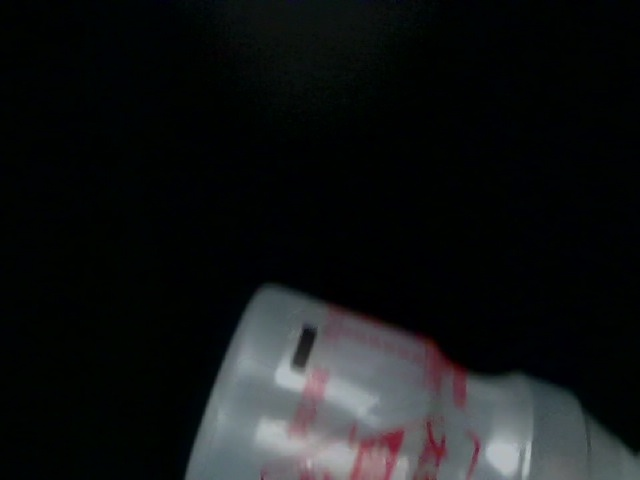CYLJ: (427, 1, 635, 203)
